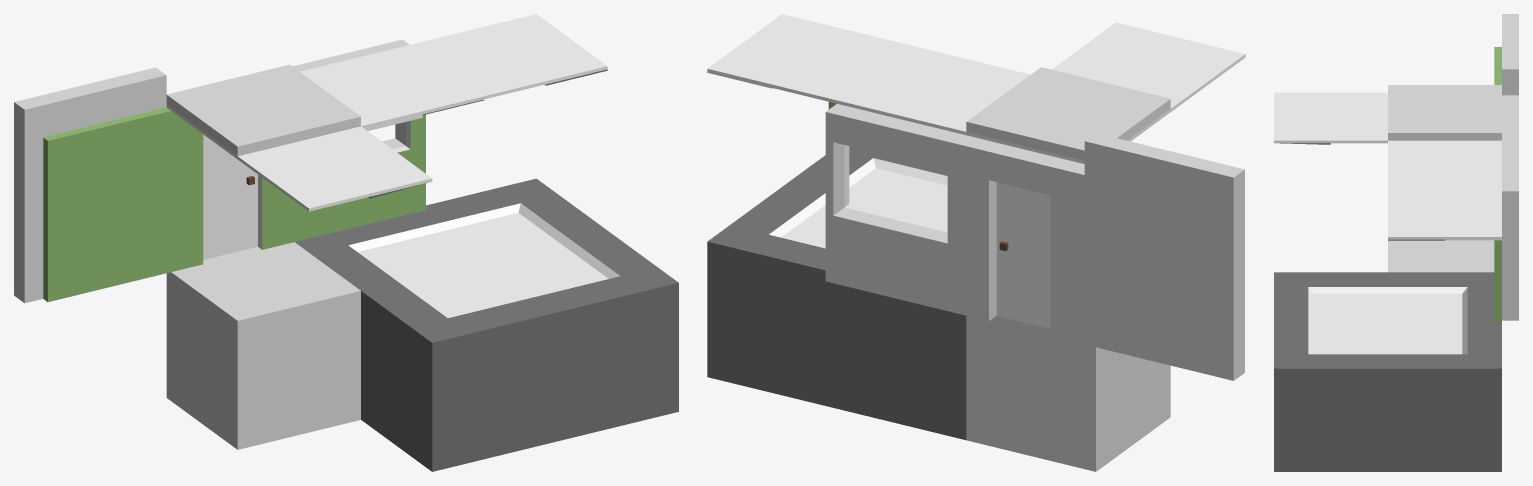
The model's file is Radio Station.fbx.
3 views of the same model, side by side, from view 1: azimuth 30°, elevation 25°; view 2: azimuth 150°, elevation 25°; view 3: azimuth 270°, elevation 25° (orthographic). The views are drawn at different scales.
Parts seen in each view (by area): view 1: Floor 2, Floor 1, Wall, Roof, Ceiling 2, Ceiling 4, Ceiling 3, Doorway, Door, Roof Edge, Concrete Wall Corner 1, Window (+2 smaller); view 2: Floor 2, Floor 1, Concrete Wall, Concrete Window, Concrete Door 1, Roof, Ceiling 4, Ceiling 3, Ceiling 2, Door, Roof Edge, Concrete Wall Corner 1 (+3 smaller); view 3: Floor 2, Roof, Ceiling 2, Ceiling 4, Ceiling 3, Floor 1, Concrete Window, Roof Edge, Concrete Door 1, Wall Corner, Wall.
Boxes of the visible parts, x1,y1,x2,y2 form: Floor 2: [295, 178, 678, 471]; Floor 1: [166, 242, 360, 449]; Wall: [43, 107, 171, 301]; Roof: [166, 64, 360, 156]; Ceiling 2: [237, 126, 432, 211]; Ceiling 4: [413, 14, 607, 99]; Ceiling 3: [300, 44, 484, 130]; Doorway: [171, 111, 294, 271]; Door: [203, 134, 257, 259]; Roof Edge: [33, 67, 166, 137]; Concrete Wall Corner 1: [14, 134, 43, 303]; Window: [294, 119, 417, 241]; Floor 2: [707, 146, 966, 439]; Floor 1: [966, 316, 1170, 471]; Concrete Wall: [1084, 175, 1214, 375]; Concrete Window: [825, 104, 965, 312]; Concrete Door 1: [955, 135, 1084, 344]; Roof: [966, 67, 1170, 160]; Ceiling 4: [707, 14, 911, 103]; Ceiling 3: [837, 45, 1030, 134]; Ceiling 2: [1052, 22, 1245, 111]; Door: [996, 182, 1050, 328]; Roof Edge: [1084, 133, 1224, 206]; Concrete Wall Corner 1: [1214, 203, 1244, 380]; Floor 2: [1274, 272, 1501, 471]; Roof: [1388, 85, 1501, 140]; Ceiling 2: [1274, 92, 1387, 144]; Ceiling 4: [1388, 189, 1501, 240]; Ceiling 3: [1388, 140, 1501, 188]; Floor 1: [1388, 240, 1494, 272]; Concrete Window: [1502, 143, 1518, 320]; Roof Edge: [1502, 21, 1518, 95]; Concrete Door 1: [1502, 95, 1518, 143]; Wall Corner: [1494, 240, 1501, 323]; Wall: [1494, 47, 1501, 84].
Bounding box in the file's own units: 830 × 500 × 430.
